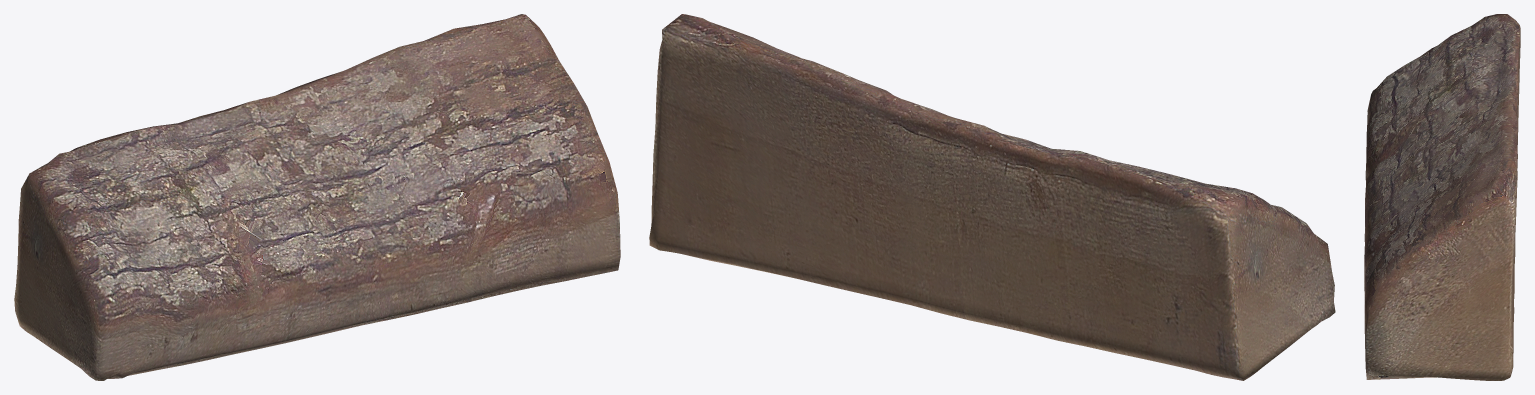
File: Fwood44.fbx
3 views of the same model, side by side, from view 1: azimuth 30°, elevation 25°; view 2: azimuth 150°, elevation 25°; view 3: azimuth 270°, elevation 25° (orthographic). The views are drawn at different scales.
Visible parts, largest first — view 1: Fwood44; view 2: Fwood44; view 3: Fwood44.
Boxes of the visible parts, bbox=[...] form: Fwood44: bbox=[14, 14, 620, 380]; Fwood44: bbox=[649, 14, 1335, 380]; Fwood44: bbox=[1364, 14, 1520, 380].
Bounding box in the file's own units: 29.47 × 11.16 × 8.56.
1 material, 1 textured.
